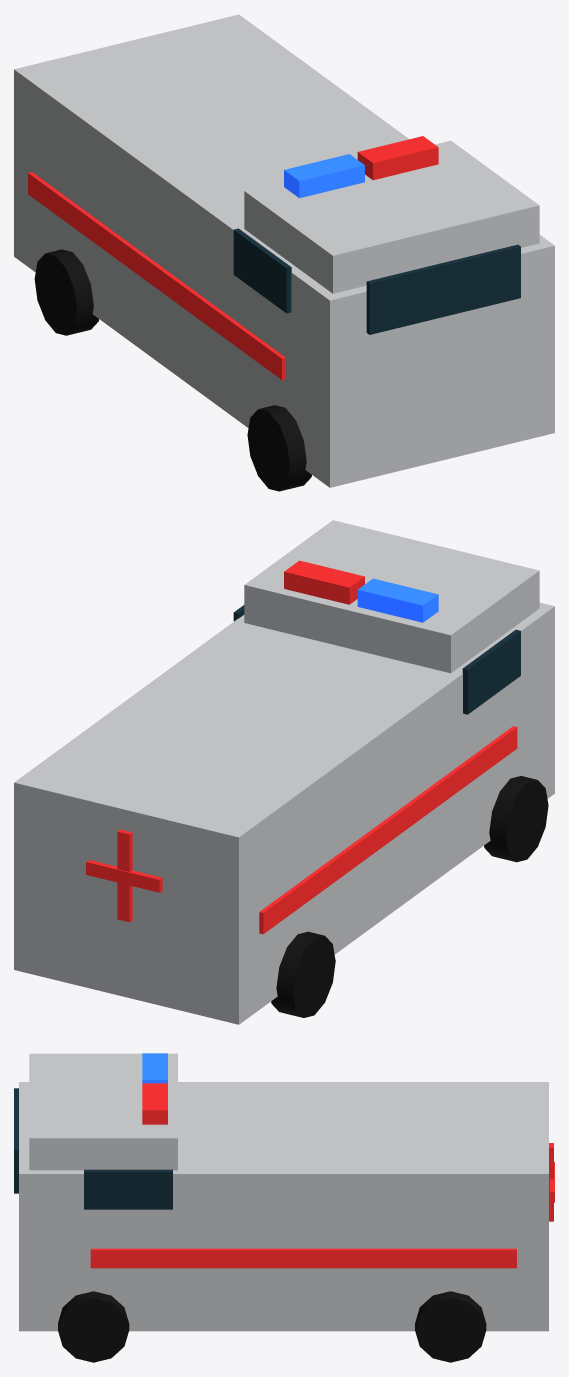
The model's file is emergency_ambulance_near.glb.
3 renders of one model, top to bottom at view 1: azimuth 30°, elevation 25°; view 2: azimuth 150°, elevation 25°; view 3: azimuth 270°, elevation 25°, orthographic. The views are drawn at different scales.
Parts seen in each view (by area): view 1: emergency_ambulance_near_box_body, emergency_ambulance_near_cab_roof_line, emergency_ambulance_near_front_windshield, emergency_ambulance_near_left_red_side_stripe, emergency_ambulance_near_left_front_wheel, emergency_ambulance_near_left_rear_wheel, emergency_ambulance_near_left_side_window, emergency_ambulance_near_roof_lightbar_blue, emergency_ambulance_near_roof_lightbar_red; view 2: emergency_ambulance_near_box_body, emergency_ambulance_near_cab_roof_line, emergency_ambulance_near_left_red_side_stripe, emergency_ambulance_near_left_rear_wheel, emergency_ambulance_near_left_front_wheel, emergency_ambulance_near_left_side_window, emergency_ambulance_near_roof_lightbar_blue, emergency_ambulance_near_roof_lightbar_red, emergency_ambulance_near_rear_red_cross_vertical, emergency_ambulance_near_rear_red_cross_horizontal; view 3: emergency_ambulance_near_box_body, emergency_ambulance_near_cab_roof_line, emergency_ambulance_near_right_red_side_stripe, emergency_ambulance_near_right_front_wheel, emergency_ambulance_near_right_rear_wheel, emergency_ambulance_near_right_side_window, emergency_ambulance_near_roof_lightbar_red, emergency_ambulance_near_roof_lightbar_blue, emergency_ambulance_near_front_windshield.
Part boxes in pixels (x1,y1,x2,y2): emergency_ambulance_near_box_body: (14,14,554,487); emergency_ambulance_near_cab_roof_line: (244,140,539,293); emergency_ambulance_near_front_windshield: (366,244,520,334); emergency_ambulance_near_left_red_side_stripe: (28,172,285,379); emergency_ambulance_near_left_front_wheel: (247,405,311,491); emergency_ambulance_near_left_rear_wheel: (34,249,98,335); emergency_ambulance_near_left_side_window: (233,228,291,313); emergency_ambulance_near_roof_lightbar_blue: (284,154,364,198); emergency_ambulance_near_roof_lightbar_red: (357,136,438,180); emergency_ambulance_near_box_body: (14,602,554,1024); emergency_ambulance_near_cab_roof_line: (244,520,539,673); emergency_ambulance_near_left_red_side_stripe: (259,726,517,934); emergency_ambulance_near_left_rear_wheel: (271,931,335,1017); emergency_ambulance_near_left_front_wheel: (484,776,548,862); emergency_ambulance_near_left_side_window: (462,629,520,714); emergency_ambulance_near_roof_lightbar_blue: (357,578,438,622); emergency_ambulance_near_roof_lightbar_red: (284,560,364,604); emergency_ambulance_near_rear_red_cross_vertical: (117,829,132,922); emergency_ambulance_near_rear_red_cross_horizontal: (86,860,162,892); emergency_ambulance_near_box_body: (19,1082,548,1331); emergency_ambulance_near_cab_roof_line: (29,1053,177,1170); emergency_ambulance_near_right_red_side_stripe: (90,1248,516,1268); emergency_ambulance_near_right_front_wheel: (58,1291,129,1362); emergency_ambulance_near_right_rear_wheel: (415,1291,486,1362); emergency_ambulance_near_right_side_window: (84,1169,172,1209); emergency_ambulance_near_roof_lightbar_red: (142,1083,167,1124); emergency_ambulance_near_roof_lightbar_blue: (142,1053,167,1083); emergency_ambulance_near_front_windshield: (14,1088,18,1193).
Bounding box in the file's own units: 2.53 × 2.54 × 5.46.
